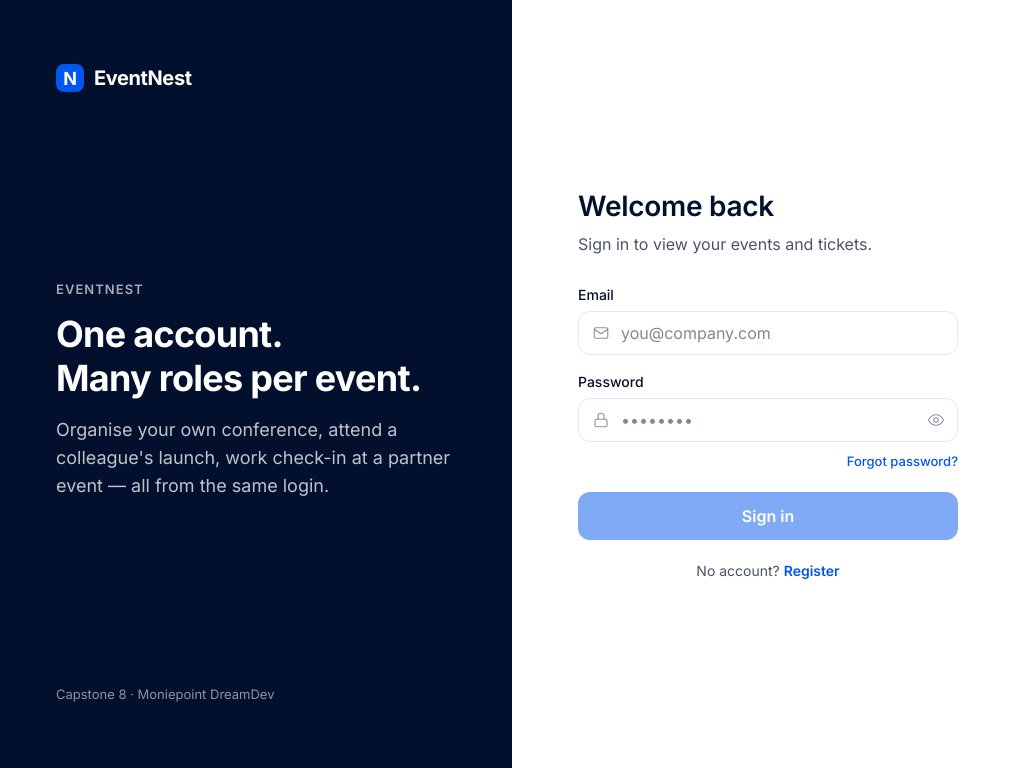
Test case: LoginPage › navigates to browse events on successful login
Step 1. Type "a@b.com" into the field with placeholder "you@company.com" → (768, 332), box [578,310,958,354]
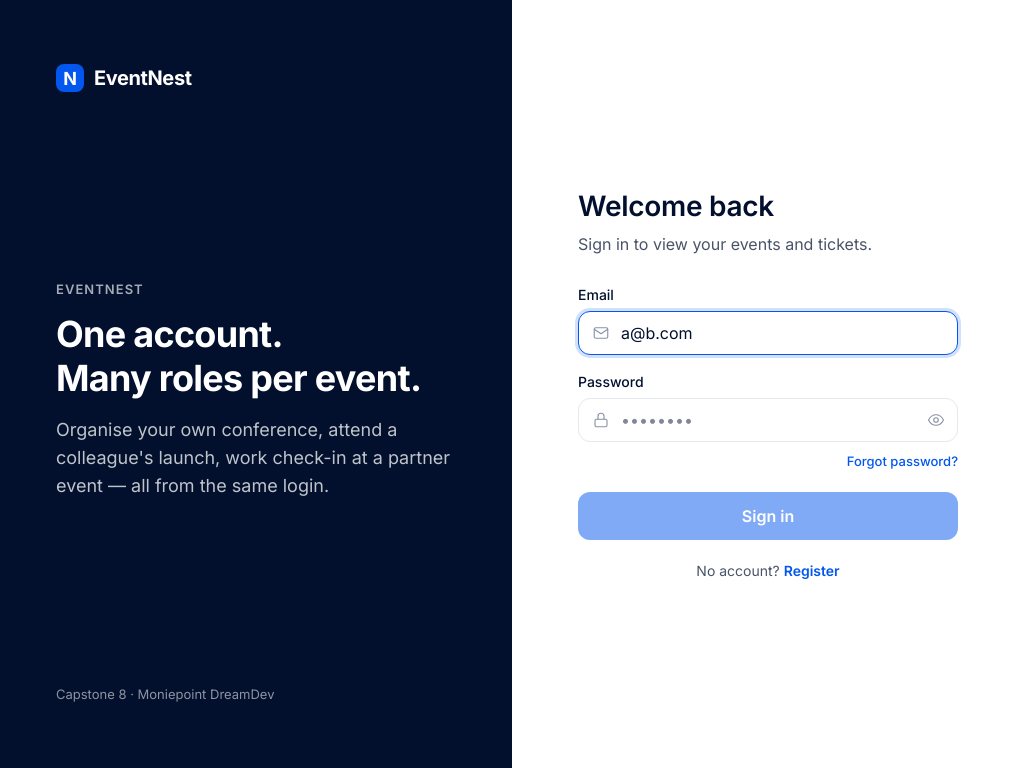
Step 2. Type "password123" into the password field labelled "Password" → (768, 420), box [578,398,958,442]
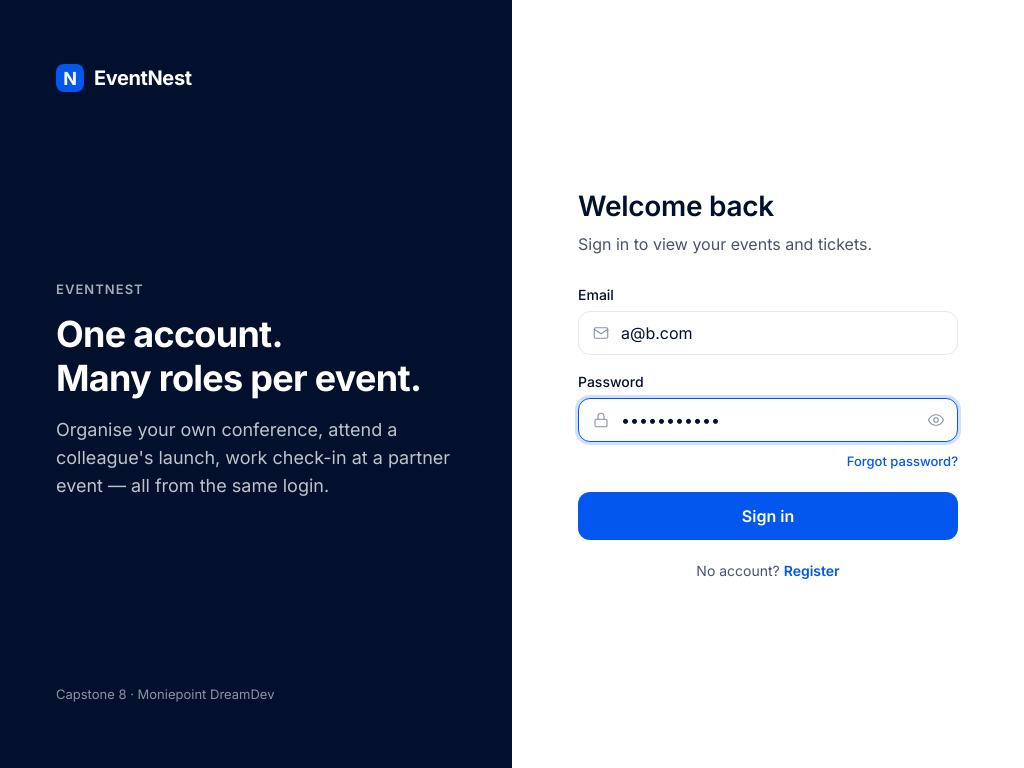
Step 3. Click the button "Sign in" → (768, 516), box [578,492,958,540]
(page scrolled)
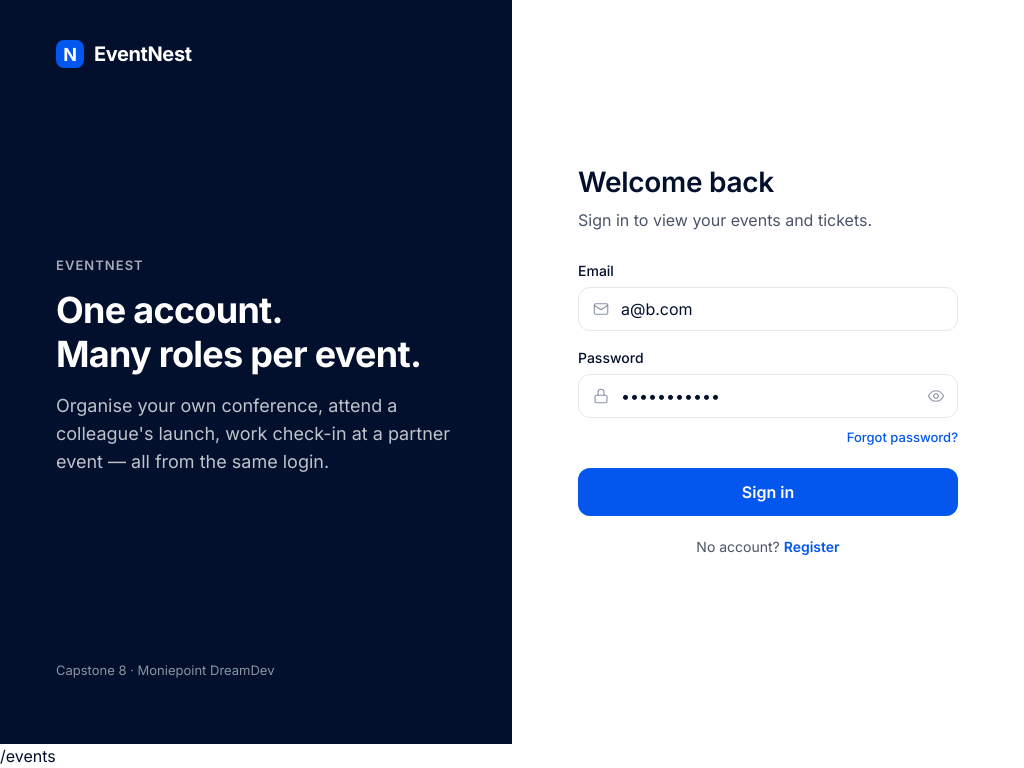
expect the text with test id "location" reads "/events": met, box [0,746,56,766]
